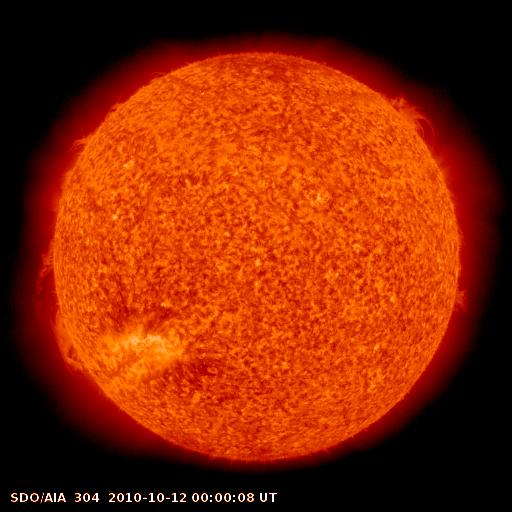prominence: (26, 235, 93, 381), (49, 93, 132, 197), (376, 80, 442, 154), (436, 276, 481, 326)
